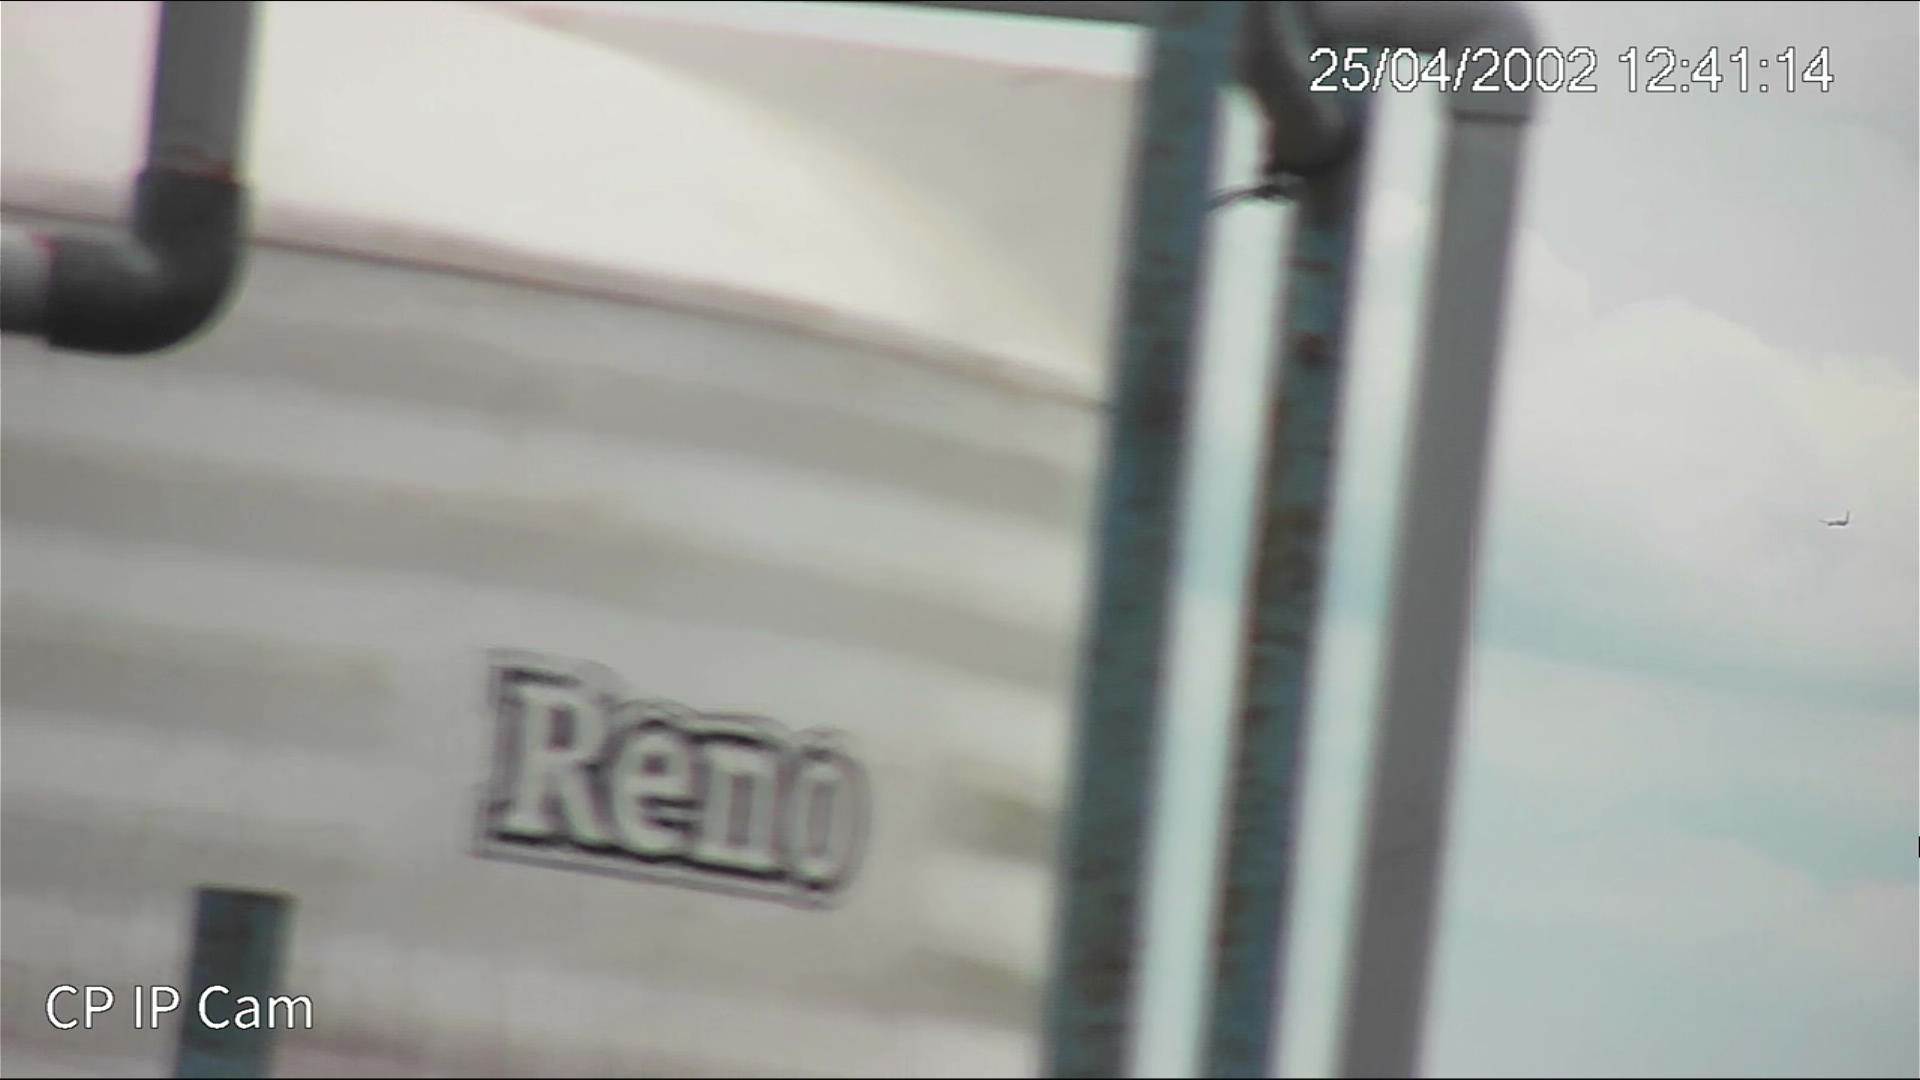SU_30: (1822, 512, 1851, 526)
